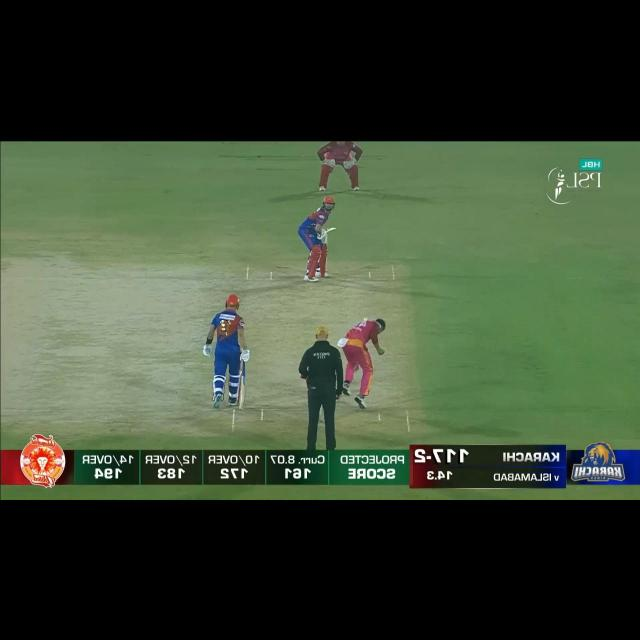bat: (236, 376, 246, 413), (324, 225, 338, 235)
toe: (236, 403, 245, 412), (332, 224, 339, 233)
